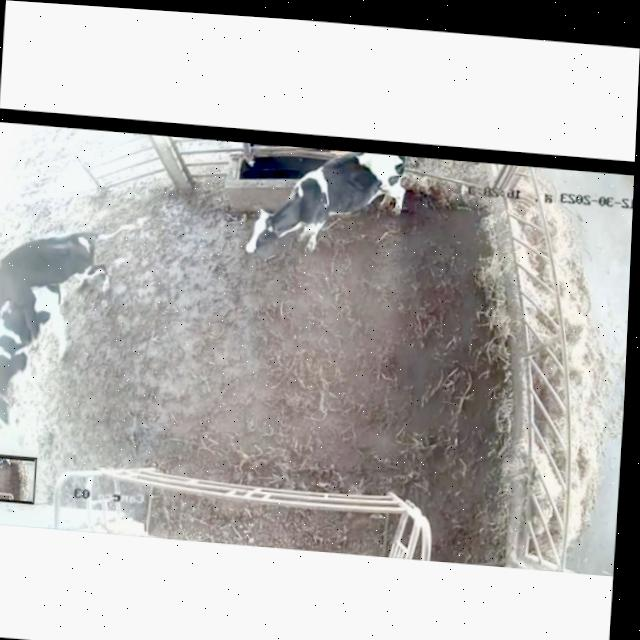ride: (0, 201, 141, 350)
